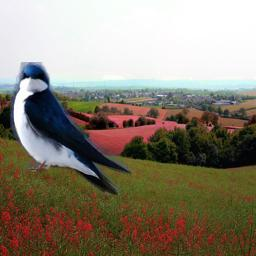Swallow: (10, 62, 131, 195)
